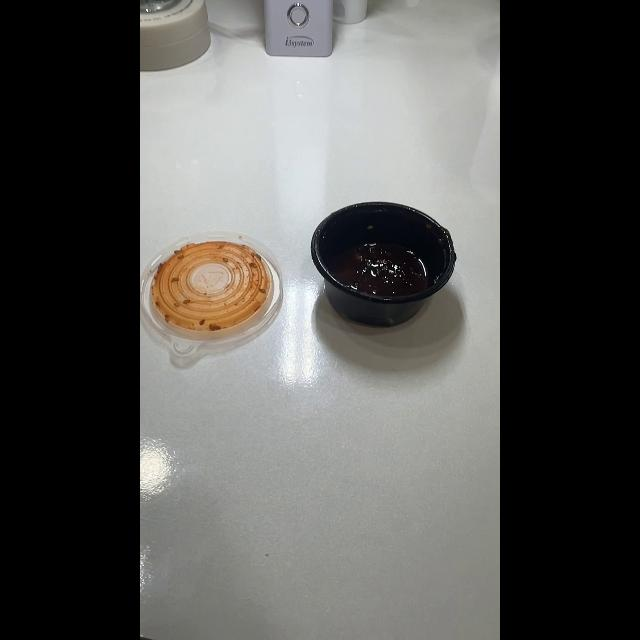dirty: (312, 202, 460, 326), (149, 232, 277, 352)
